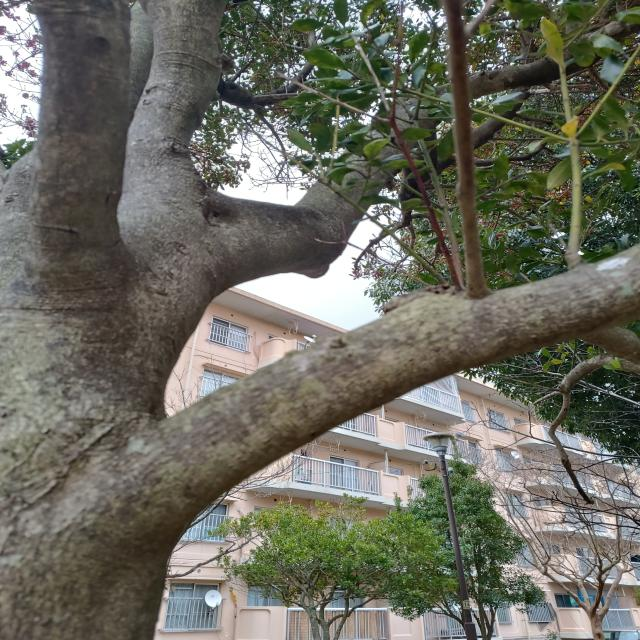Branch: (164, 244, 640, 518), (135, 90, 460, 406), (118, 2, 228, 249), (440, 21, 638, 100)
Twig: (445, 0, 486, 284)
